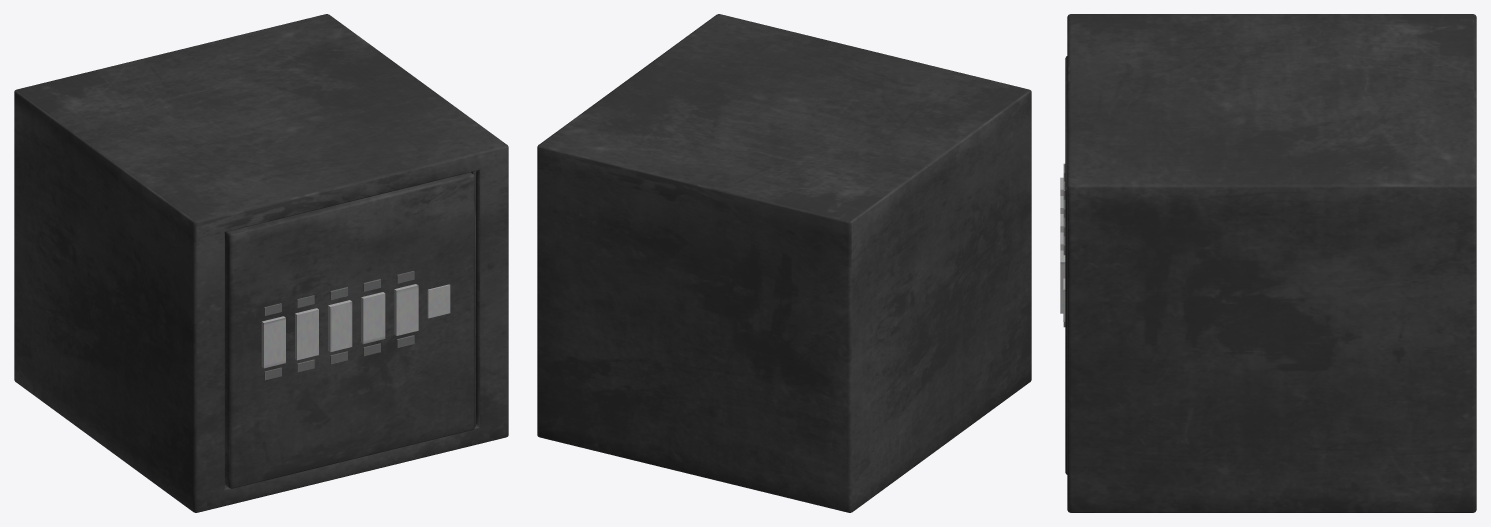
Rendered from Safe.fbx.
The picture shows the model from 3 angles, left to right: view 1: azimuth 30°, elevation 25°; view 2: azimuth 150°, elevation 25°; view 3: azimuth 270°, elevation 25°; orthographic projection. The views are drawn at different scales.
Visible parts, largest first — view 1: Safe_box, Safe_Door, Safe_Door.001; view 2: Safe_box; view 3: Safe_box, Safe_Door, Safe_Door.001.
Boxes of the visible parts, x1=… form: Safe_box: x1=14, y1=14, x2=508, y2=512; Safe_Door: x1=225, y1=172, x2=474, y2=488; Safe_Door.001: x1=261, y1=271, x2=450, y2=380; Safe_box: x1=537, y1=14, x2=1031, y2=512; Safe_box: x1=1067, y1=14, x2=1476, y2=512; Safe_Door: x1=1065, y1=56, x2=1067, y2=474; Safe_Door.001: x1=1060, y1=163, x2=1065, y2=327.
Size of the model in its own units: 50 by 44.29 by 50.85.
Materials: 2 (2 with a texture image).
